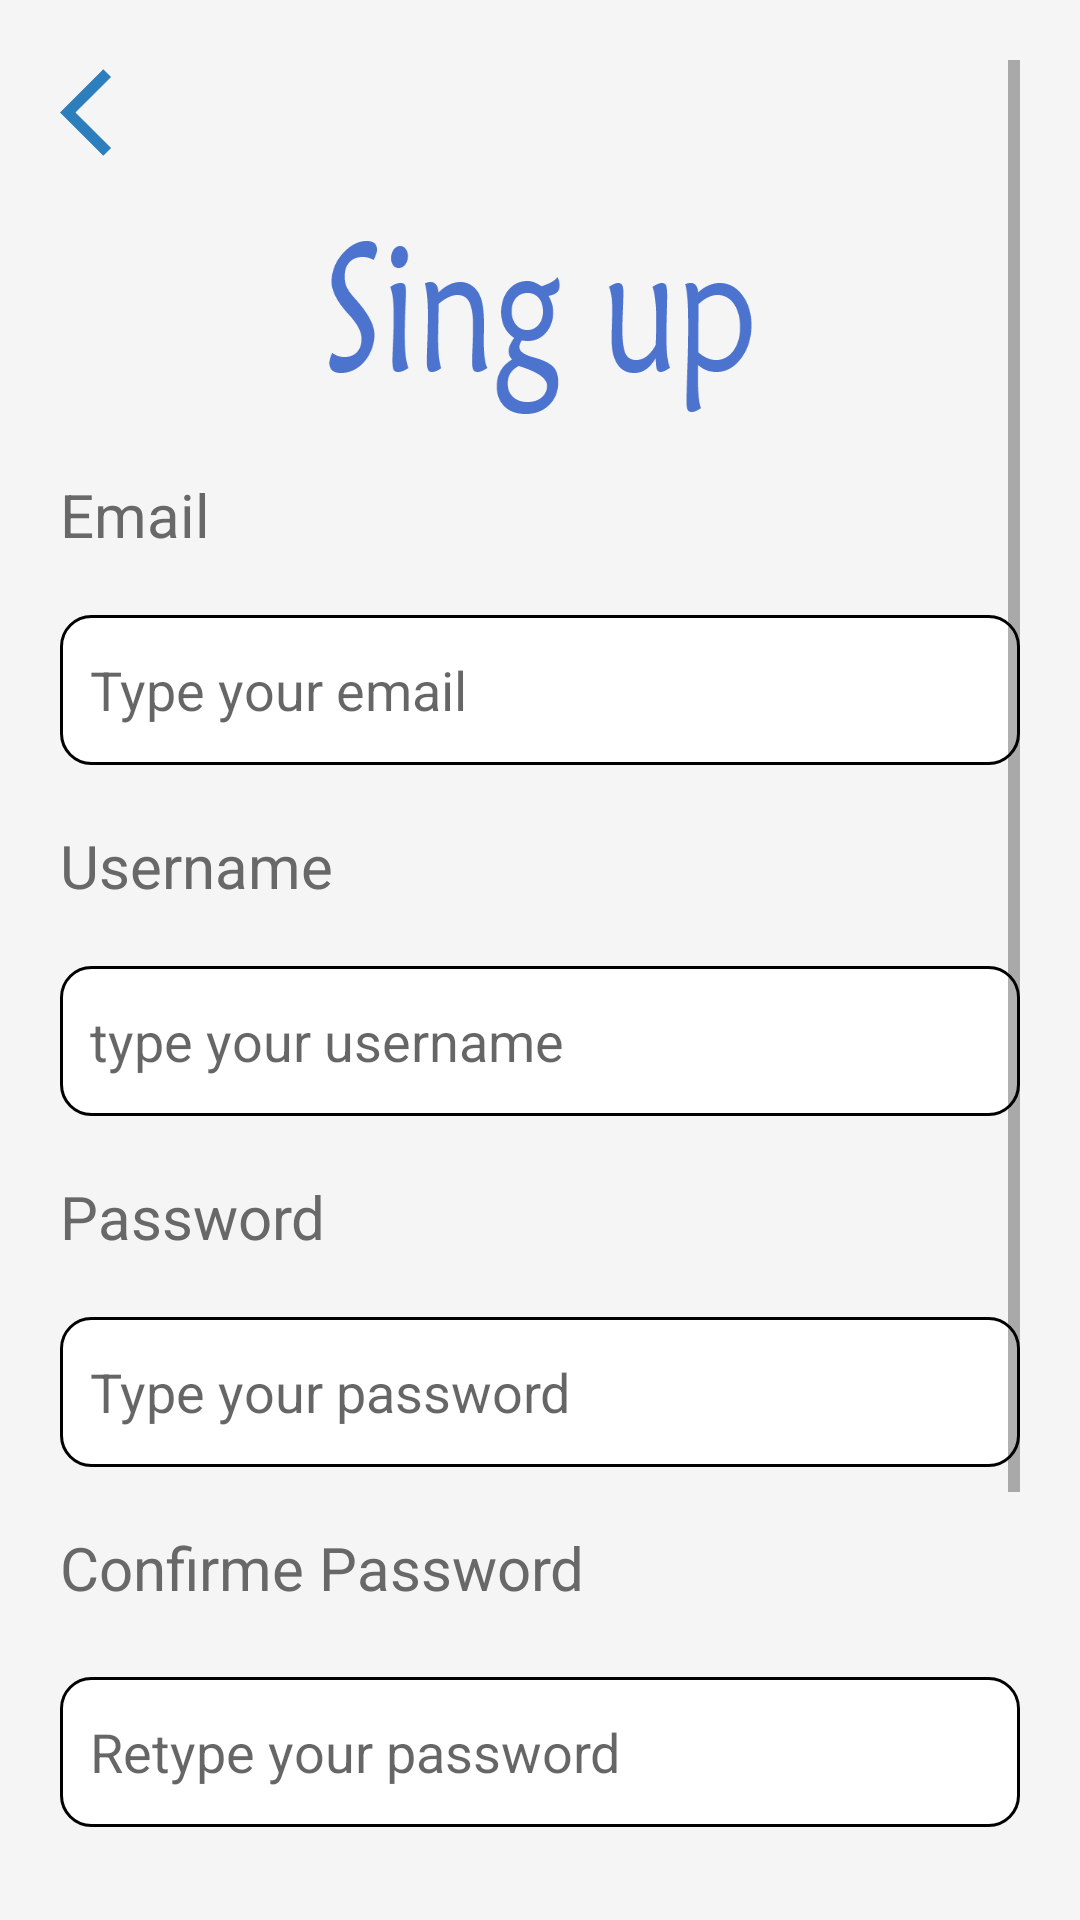

Icons on this 1080px x 1920px Android screen, each with its box as (x1, y1, x2, y2):
back: (60, 69, 111, 156)
